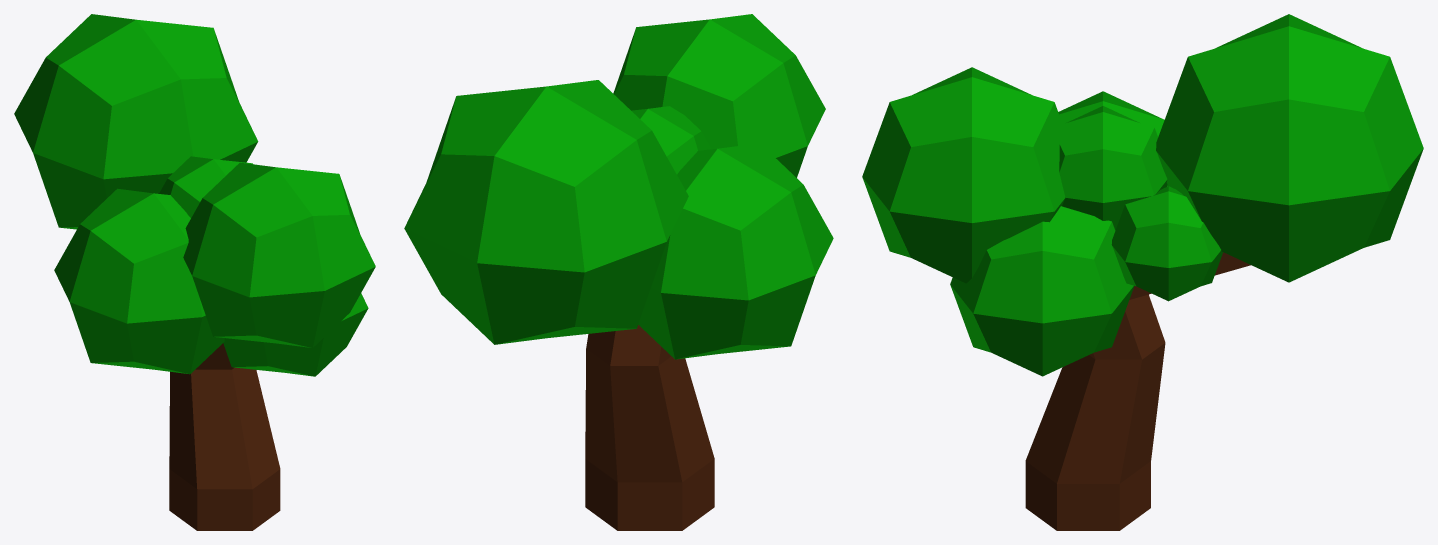
Rendered from Trees01.obj.
The picture shows the model from 3 angles, left to right: view 1: azimuth 30°, elevation 25°; view 2: azimuth 150°, elevation 25°; view 3: azimuth 270°, elevation 25°; orthographic projection. The views are drawn at different scales.
Parts seen in each view (by area): view 1: Tree01_Circle.003; view 2: Tree01_Circle.003; view 3: Tree01_Circle.003.
Part boxes in pixels (x1=…): Tree01_Circle.003: x1=14, y1=14, x2=375, y2=530; Tree01_Circle.003: x1=404, y1=14, x2=833, y2=530; Tree01_Circle.003: x1=862, y1=14, x2=1423, y2=530.
Size of the model in its own units: 5.39 by 8.47 by 8.95.
